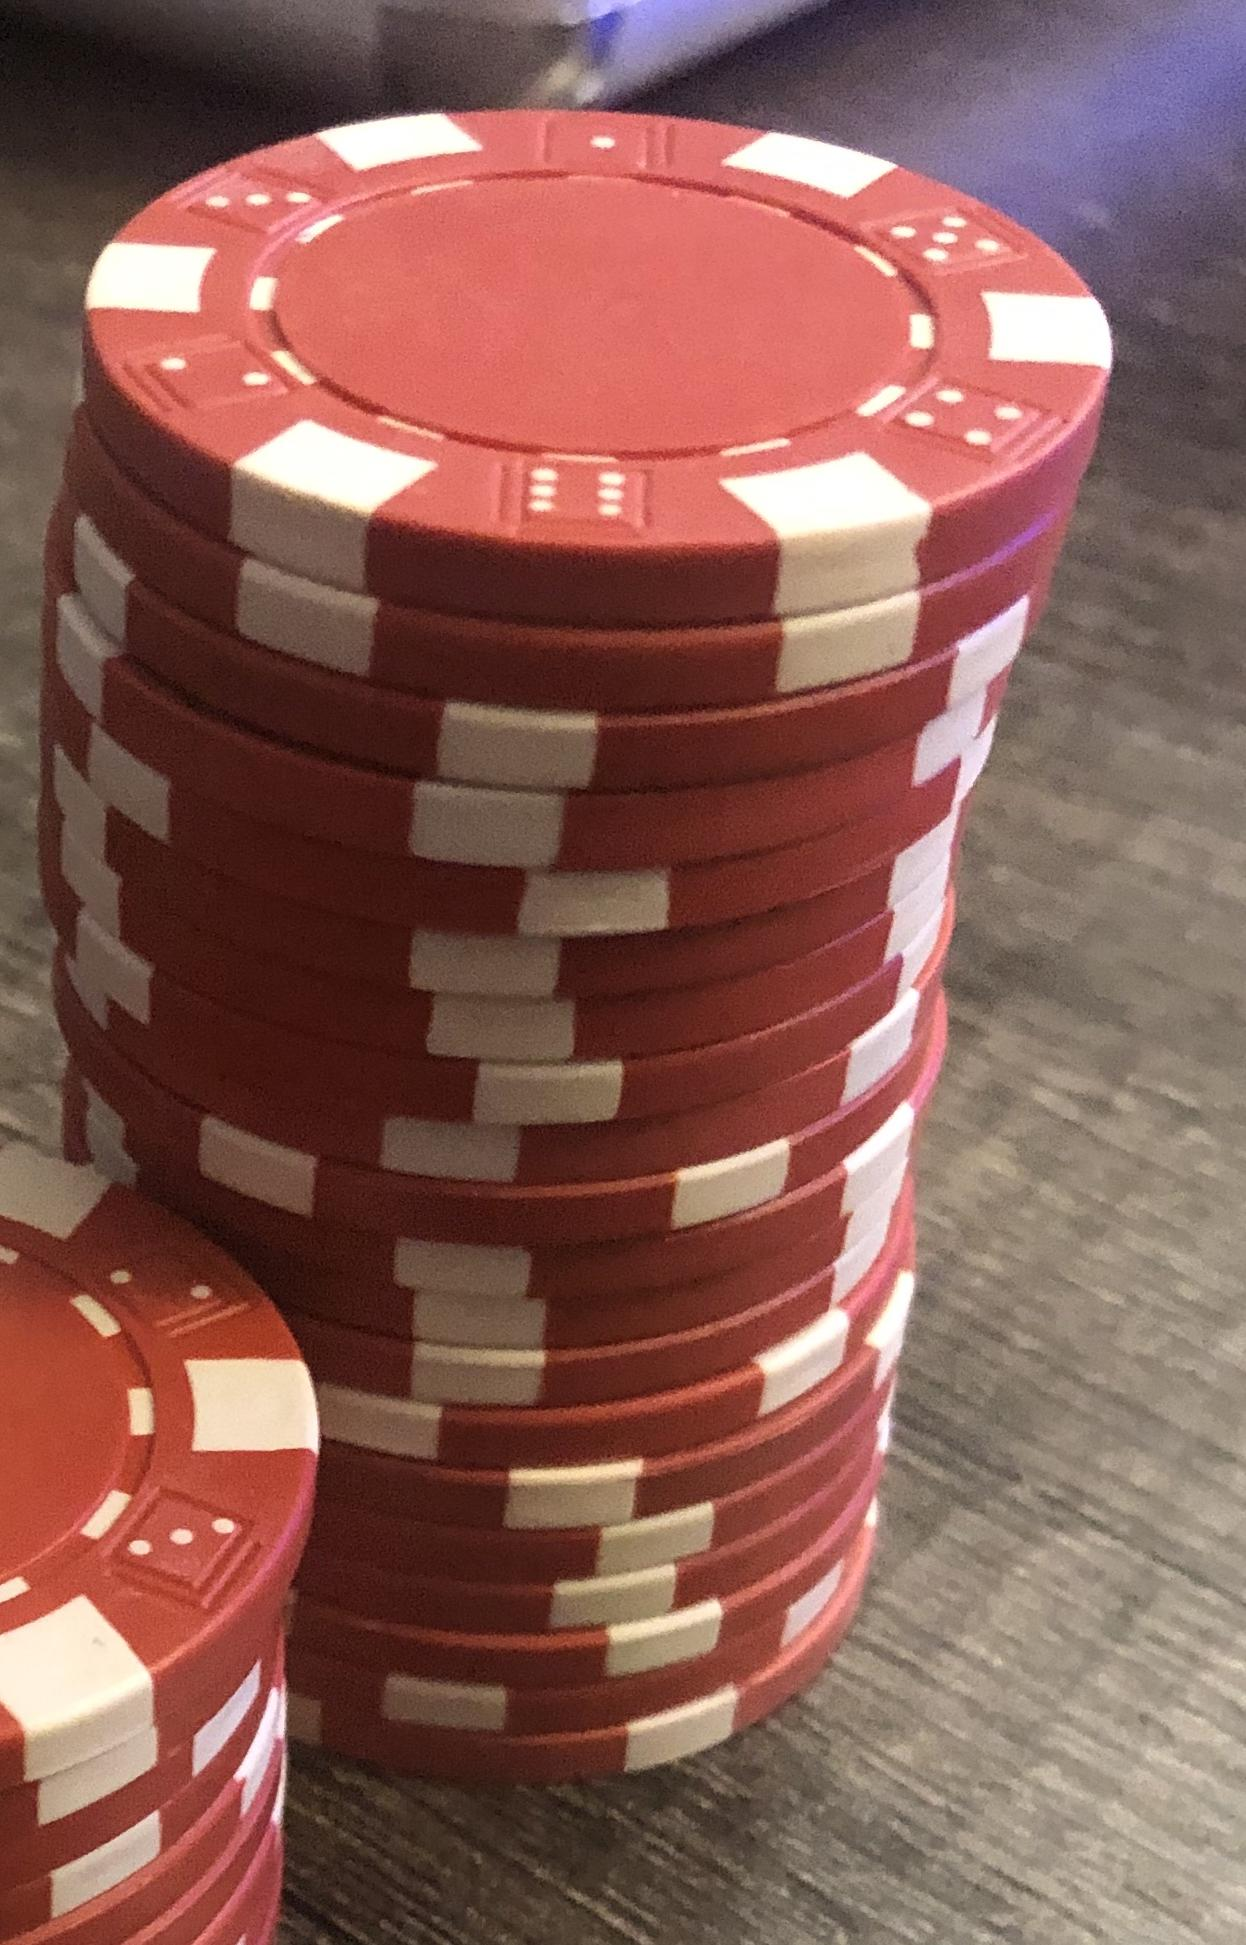Chip: (1, 1, 1246, 1945)
